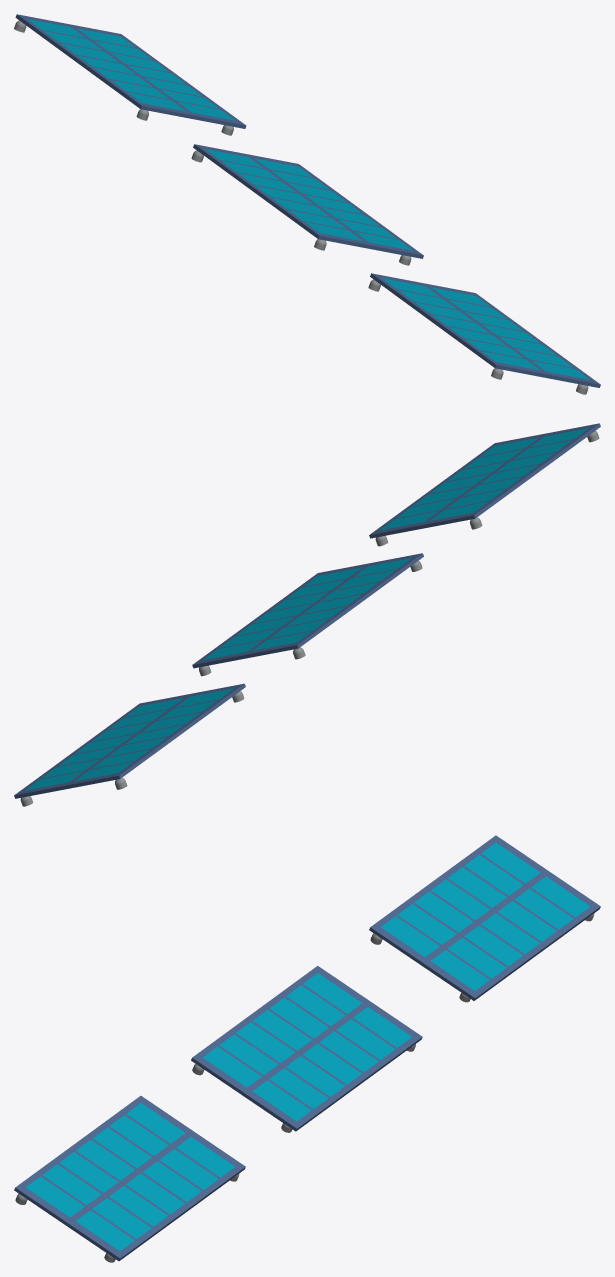
Rendered from soalr panelsss.glb.
The picture shows the model from 3 angles, top to bottom: view 1: azimuth 30°, elevation 25°; view 2: azimuth 150°, elevation 25°; view 3: azimuth 330°, elevation 25°; orthographic projection.
Parts seen in each view (by area): view 1: Mesh_Mesh_head_geo.001_lambert2SG.001; view 2: Mesh_Mesh_head_geo.001_lambert2SG.001; view 3: Mesh_Mesh_head_geo.001_lambert2SG.001.
Boxes of the visible parts, box(x1,y1,x2,y2) form: Mesh_Mesh_head_geo.001_lambert2SG.001: box(14, 14, 600, 394); Mesh_Mesh_head_geo.001_lambert2SG.001: box(14, 423, 600, 806); Mesh_Mesh_head_geo.001_lambert2SG.001: box(14, 835, 600, 1262).
Size of the model in its own units: 33.93 by 16.95 by 256.
